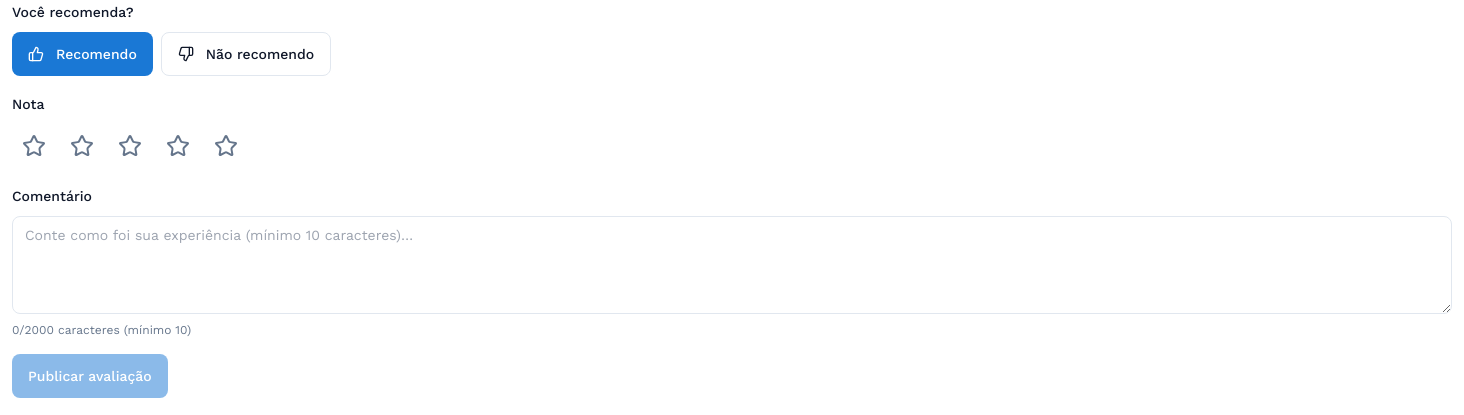
Test: ReviewForm › habilita o botão assim que o comentário chega a 10 caracteres
Click the button named "5 estrelas": coordinates (226, 146) left=204, top=124, right=248, bottom=168
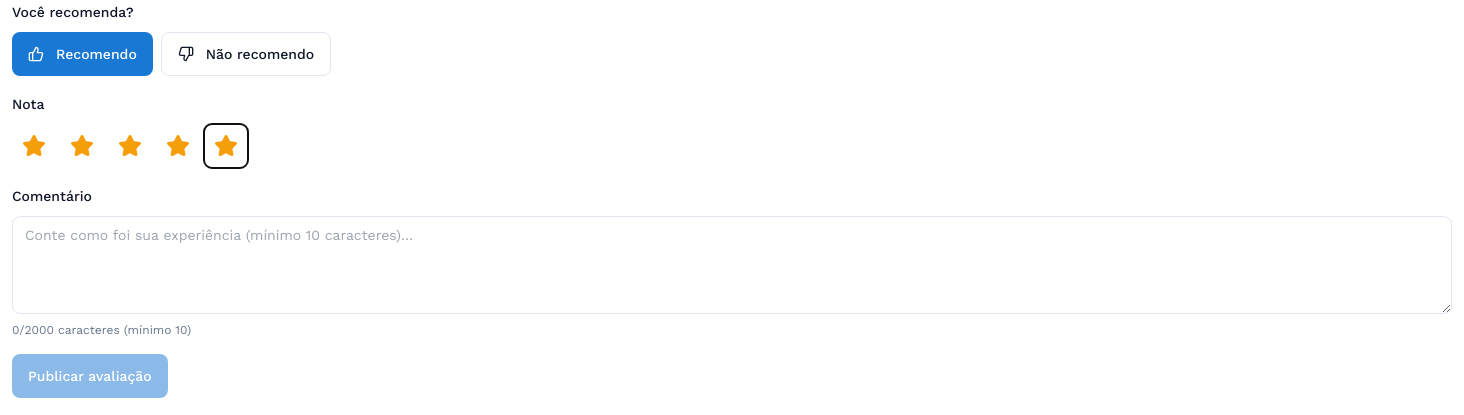
In the text box labelled "Comentário": coordinates (732, 265) left=12, top=216, right=1452, bottom=314, type "1234567890"
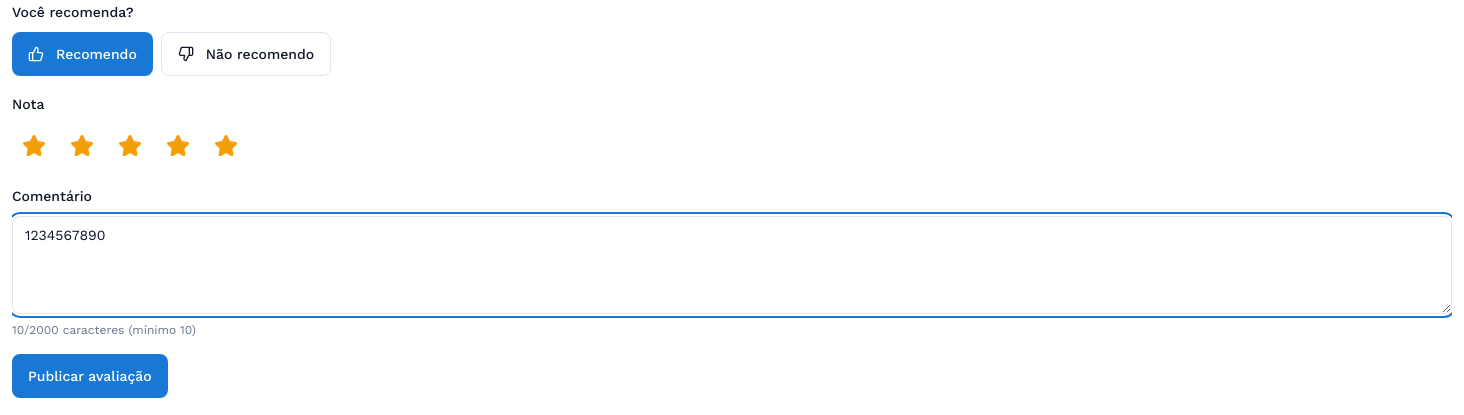
Result: the button "Publicar avaliação" is enabled at left=12, top=354, right=168, bottom=398
